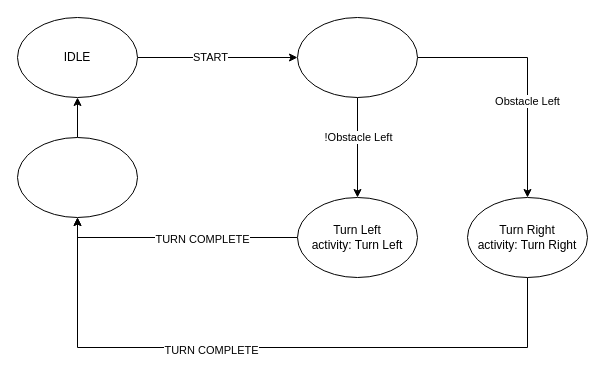
Some shapes in this 605 by 374 pixel diagram are drawn without their labels. Here are the shapes that lost their labels. From the top down, the centre of each, then its label:
[357,57]: Choose Direction
[77,177]: Stop activity: Motor Off
